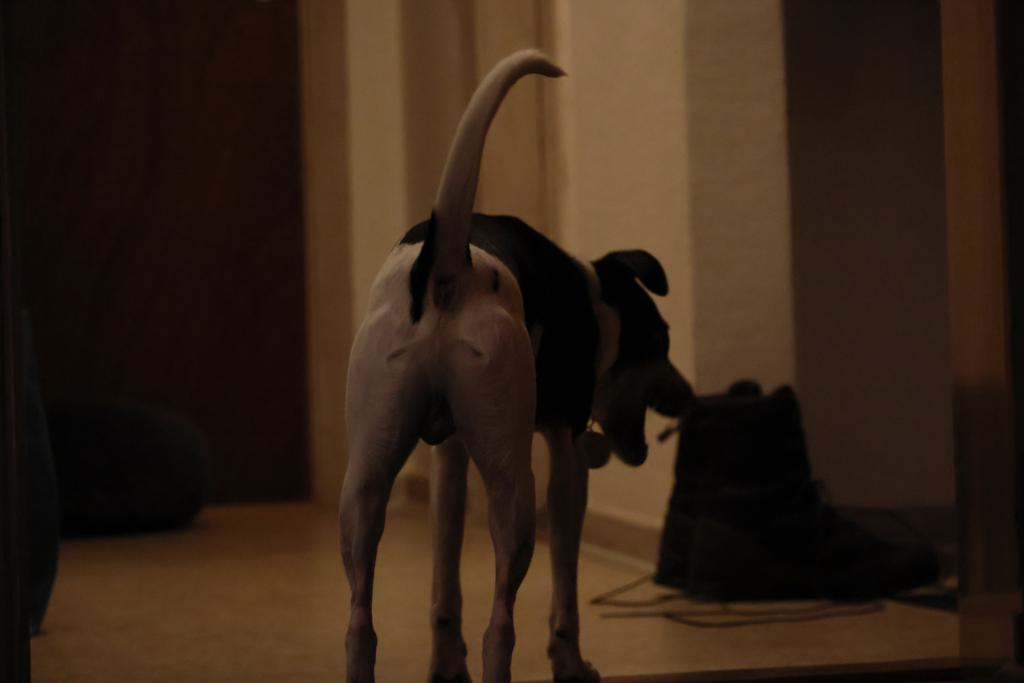Dog: (322, 47, 714, 683)
